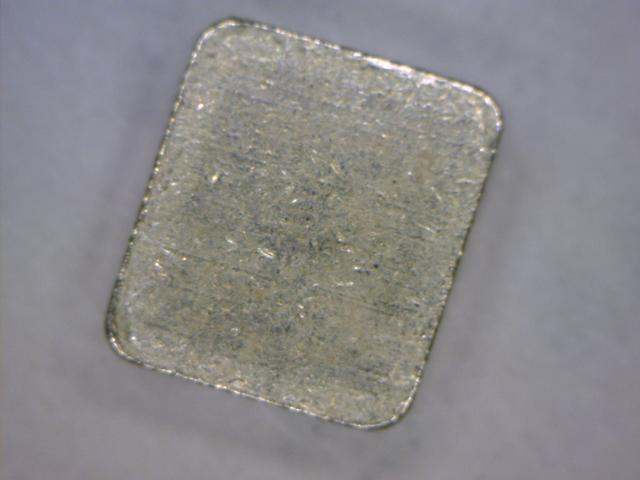ok: (97, 13, 515, 440)
